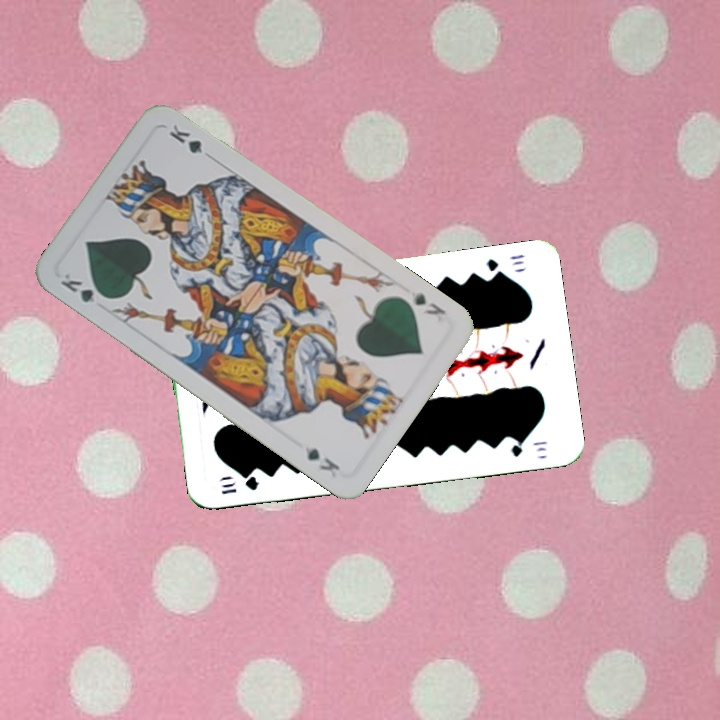G10: (482, 250, 528, 280), (217, 472, 261, 497)
GK: (56, 268, 112, 306), (405, 287, 449, 318)
